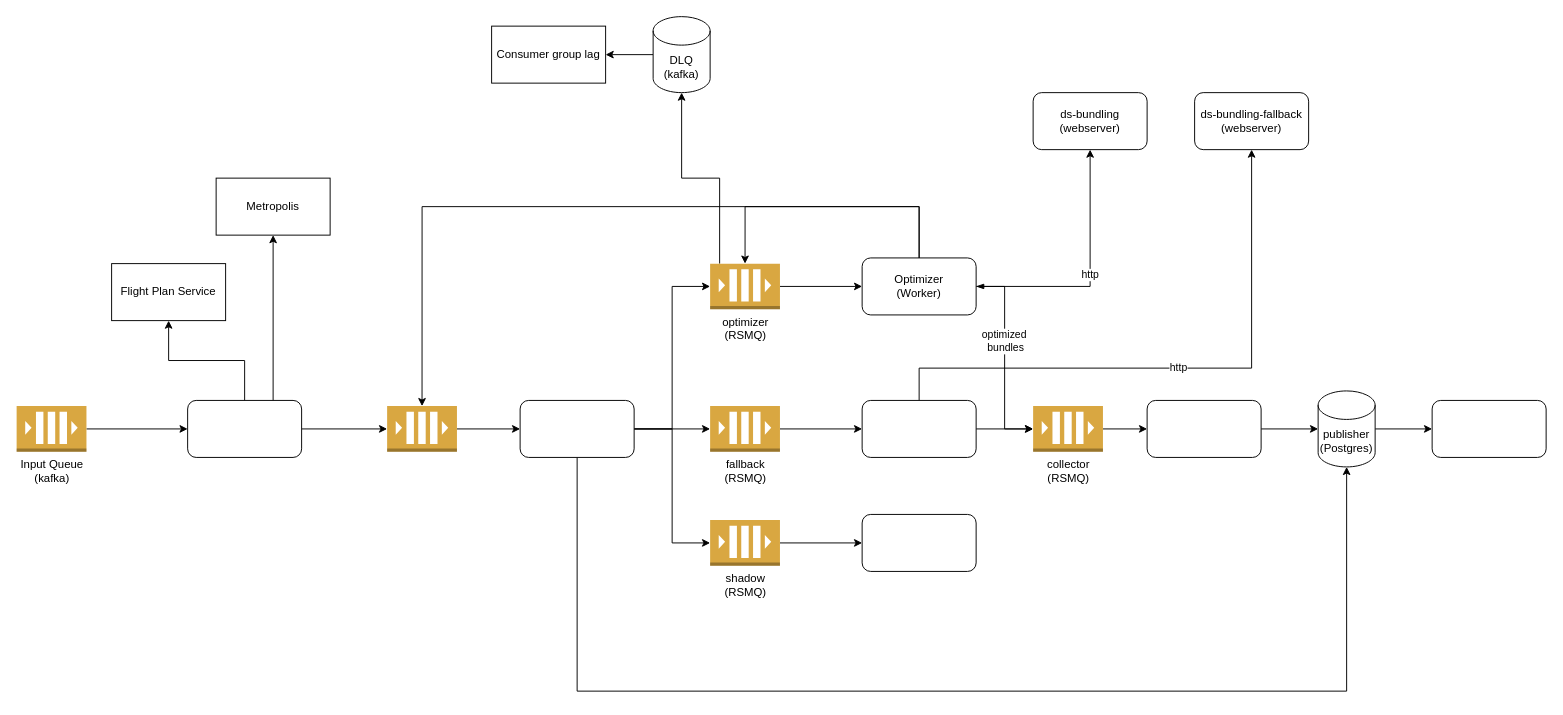
This 1563x715 diagram has some shape labels left out. Here are the shapes that lost their labels. From the top down, the centre of each, then its label:
(244,428): Features (Worker)
(421,428): triage (RSMQ)
(576,428): Triage (Worker)
(918,428): Fallback (Worker)
(1203,428): Collector (Worker)
(1488,428): Publisher (Worker)
(918,542): Shadow (Worker)
